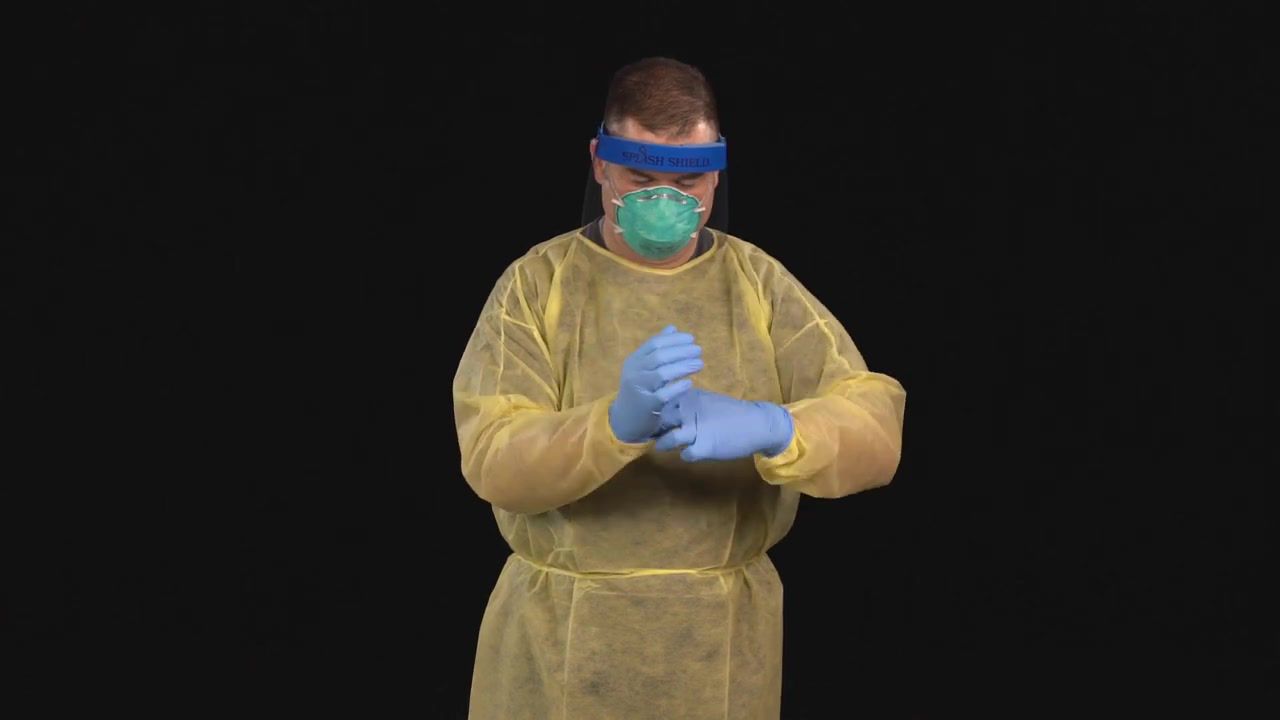Coverall: (459, 222, 864, 720)
Face_Shield: (571, 130, 732, 272)
Gloves: (623, 324, 702, 440), (662, 396, 787, 461)
with_mask: (609, 168, 709, 253)
